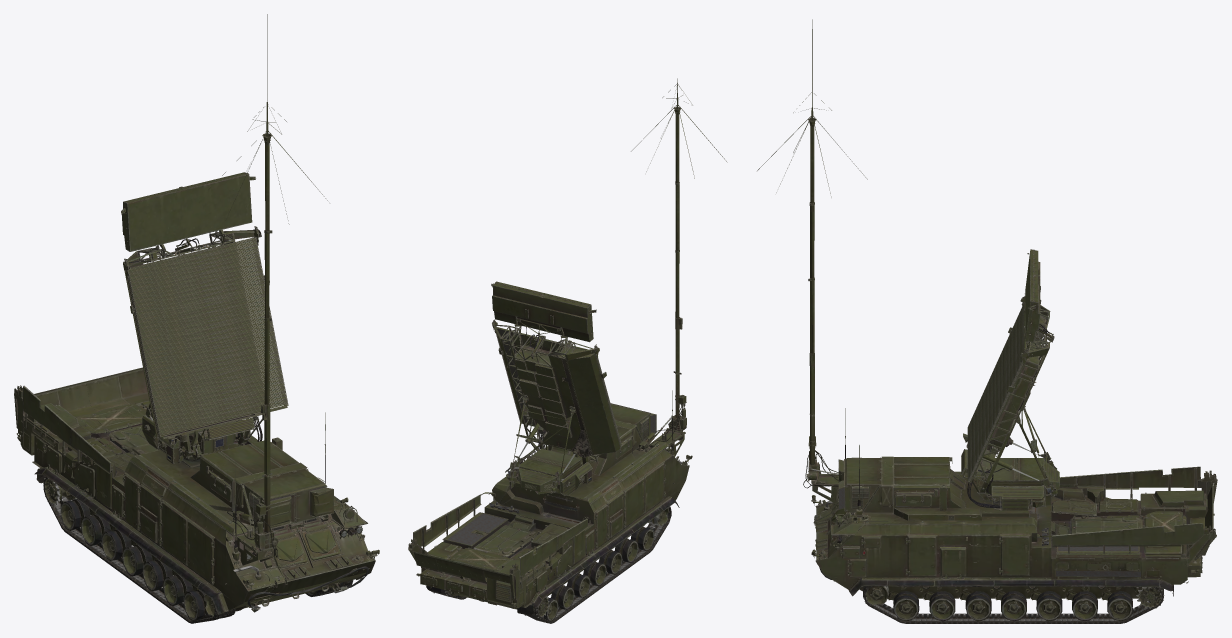
File: buk2.glb
3 views of the same model, side by side, from view 1: azimuth 30°, elevation 25°; view 2: azimuth 150°, elevation 25°; view 3: azimuth 270°, elevation 25° (orthographic). The views are drawn at different scales.
Visible parts, largest first — view 1: 249553e3-6f6f-4363-8d68-3287d2fdc10d, 9391edaf-d0c4-4125-813e-b2abf92a08f2, 9b26dc37-f401-4286-b840-e9cd240fd7d9; view 2: 249553e3-6f6f-4363-8d68-3287d2fdc10d, 9391edaf-d0c4-4125-813e-b2abf92a08f2, 9b26dc37-f401-4286-b840-e9cd240fd7d9, c6dae10d-b38c-473c-a855-f5c59721a232, afc04618-0887-48cb-8545-d1316107ed4b, 3f26f3f4-890b-423f-a138-e1fab769011e; view 3: 249553e3-6f6f-4363-8d68-3287d2fdc10d, 9391edaf-d0c4-4125-813e-b2abf92a08f2, 063ec996-2189-4f9b-a60e-c47e27598776, c6dae10d-b38c-473c-a855-f5c59721a232.
Part boxes in pixels (left/top/right/bottom): 249553e3-6f6f-4363-8d68-3287d2fdc10d: left=14, top=14, right=379, bottom=620; 9391edaf-d0c4-4125-813e-b2abf92a08f2: left=121, top=172, right=288, bottom=463; 9b26dc37-f401-4286-b840-e9cd240fd7d9: left=43, top=477, right=235, bottom=623; 249553e3-6f6f-4363-8d68-3287d2fdc10d: left=408, top=78, right=727, bottom=621; 9391edaf-d0c4-4125-813e-b2abf92a08f2: left=491, top=281, right=621, bottom=496; 9b26dc37-f401-4286-b840-e9cd240fd7d9: left=526, top=506, right=671, bottom=623; c6dae10d-b38c-473c-a855-f5c59721a232: left=447, top=415, right=655, bottom=545; afc04618-0887-48cb-8545-d1316107ed4b: left=511, top=327, right=590, bottom=457; 3f26f3f4-890b-423f-a138-e1fab769011e: left=498, top=329, right=534, bottom=425; 249553e3-6f6f-4363-8d68-3287d2fdc10d: left=757, top=19, right=1217, bottom=621; 9391edaf-d0c4-4125-813e-b2abf92a08f2: left=961, top=249, right=1059, bottom=510; 063ec996-2189-4f9b-a60e-c47e27598776: left=863, top=580, right=1163, bottom=623; c6dae10d-b38c-473c-a855-f5c59721a232: left=839, top=487, right=1140, bottom=576.
Bounding box in the file's own units: 4.17 × 14.86 × 11.06.
Materials: 9 (9 with a texture image).
